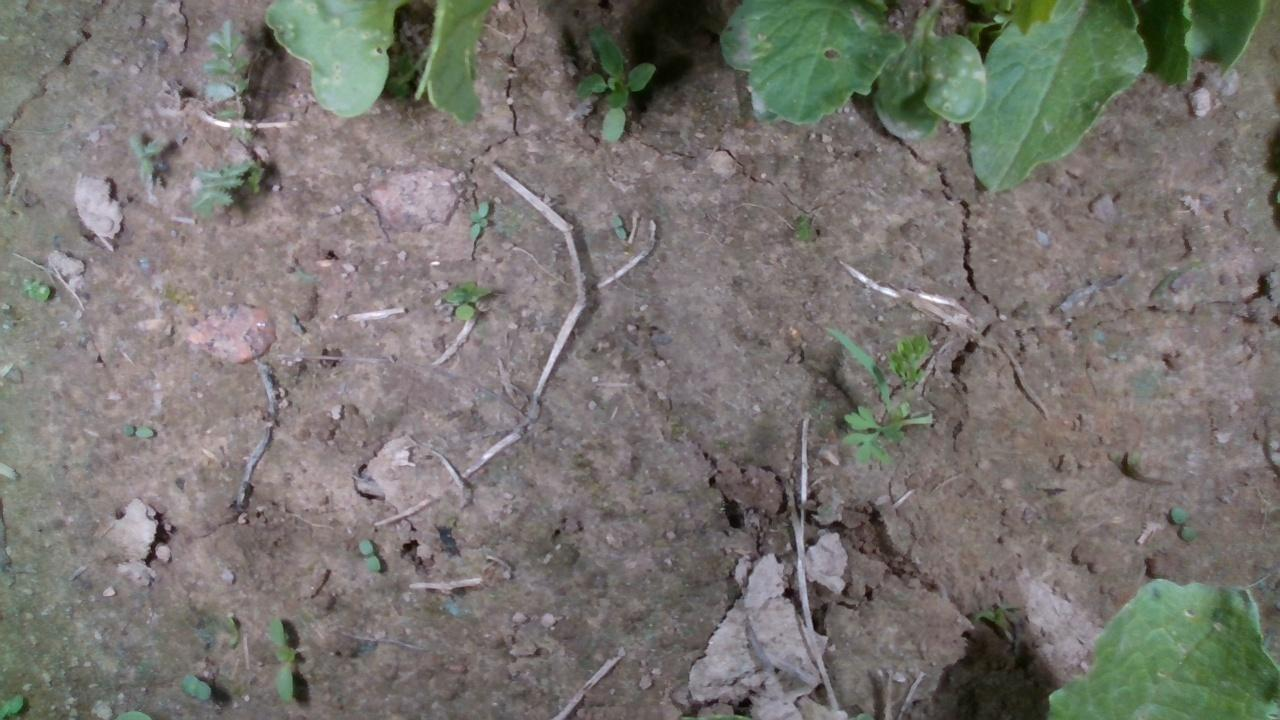weed: (267, 616, 293, 704), (1169, 504, 1195, 542), (356, 536, 381, 572), (179, 673, 211, 701), (468, 199, 488, 242), (21, 278, 50, 301), (122, 424, 155, 438), (609, 215, 627, 240)
